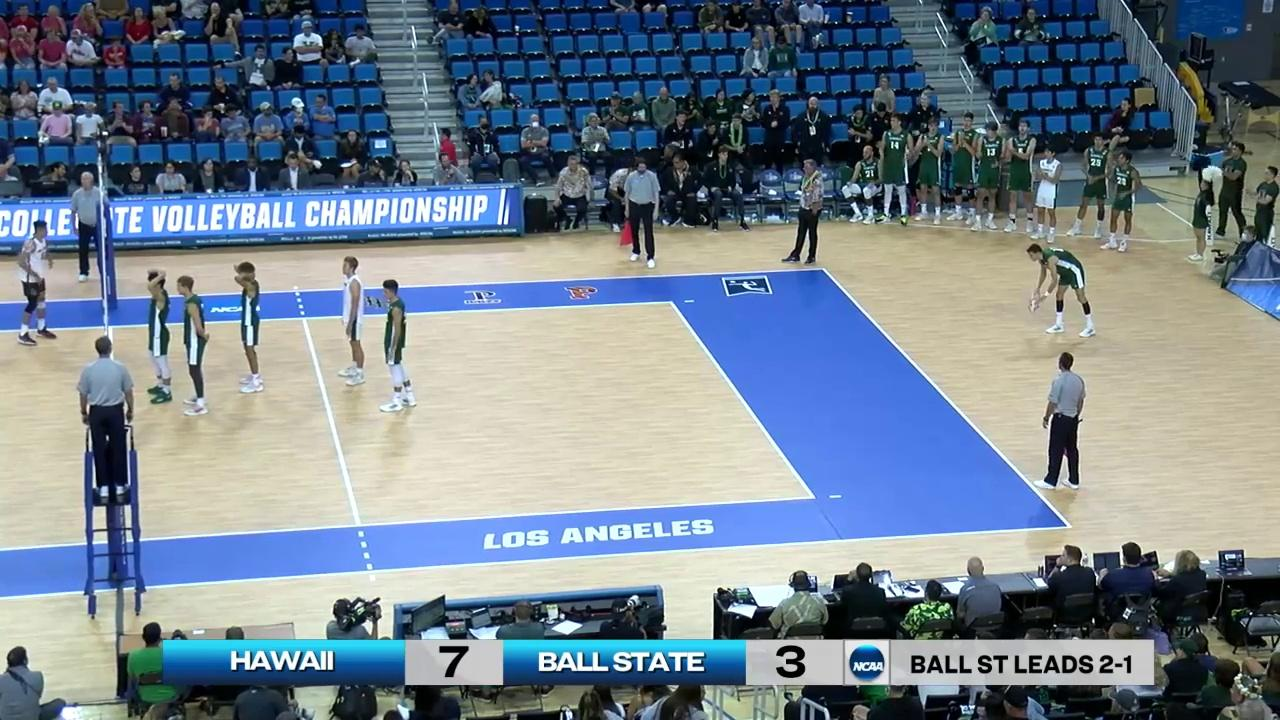player: (1023, 242, 1095, 343), (14, 219, 55, 343), (380, 280, 418, 413), (228, 262, 264, 395), (178, 276, 210, 416), (336, 257, 368, 387), (144, 268, 174, 404)
refree: (79, 337, 141, 493), (1040, 352, 1086, 493), (67, 171, 109, 287), (621, 160, 662, 265)
